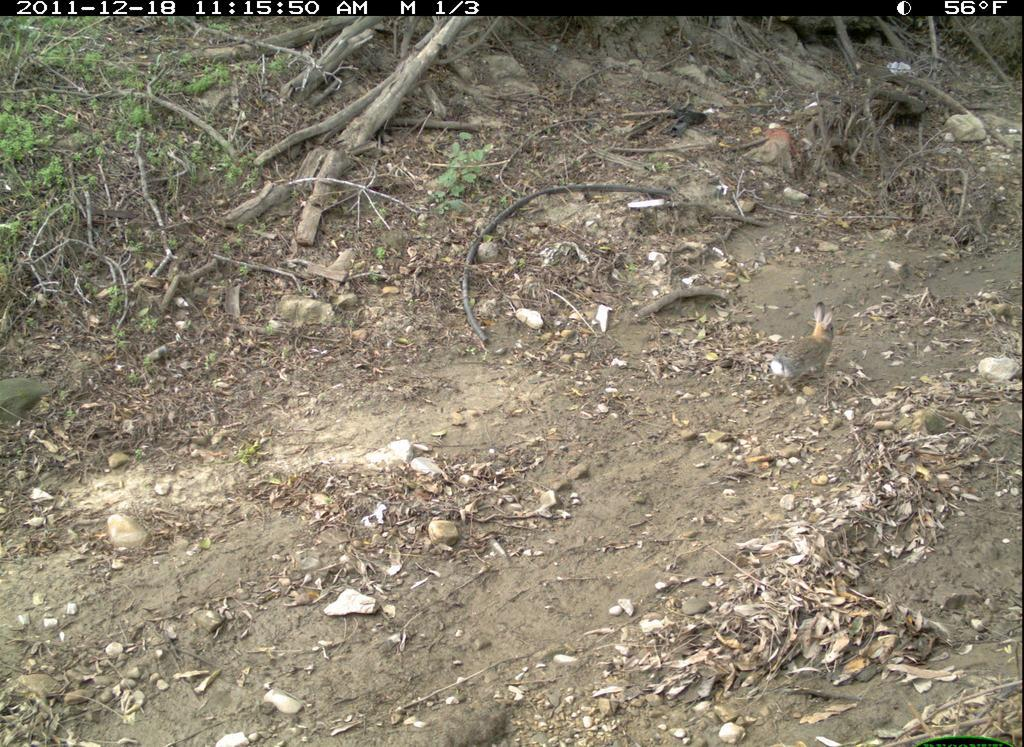rabbit: (765, 295, 853, 404)
